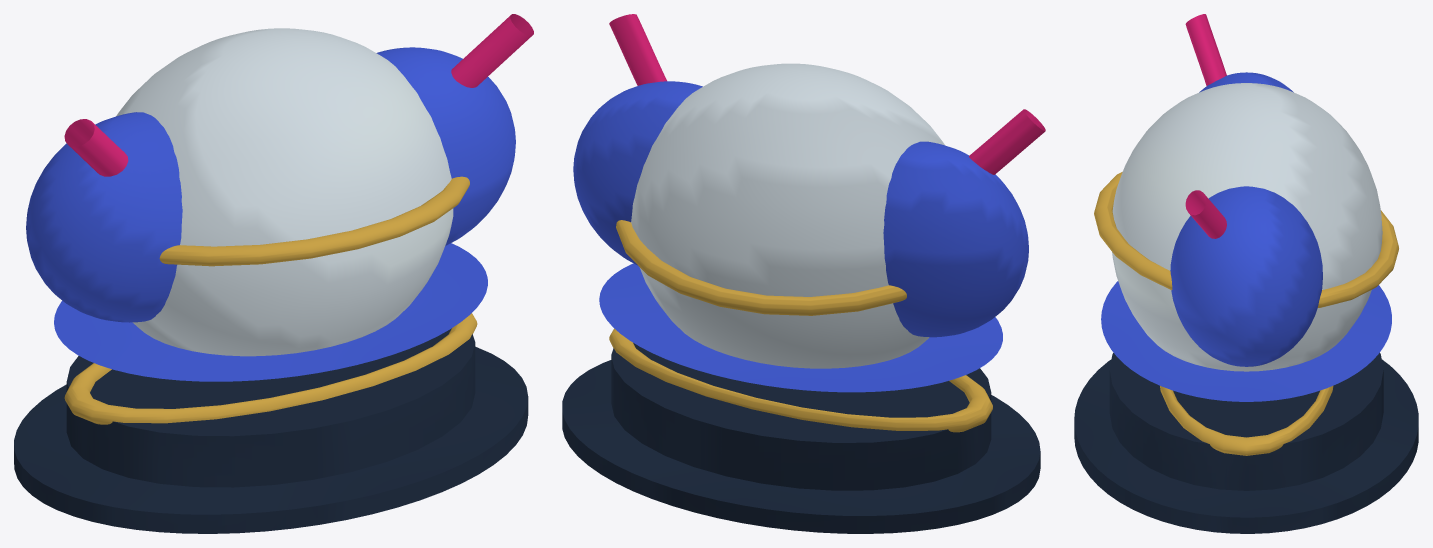
Rendered from 0181_人体图鉴_肺.glb.
The picture shows the model from 3 angles, left to right: view 1: azimuth 30°, elevation 25°; view 2: azimuth 150°, elevation 25°; view 3: azimuth 270°, elevation 25°; orthographic projection. The views are drawn at different scales.
Parts seen in each view (by area): view 1: card_0181; view 2: card_0181; view 3: card_0181.
Boxes of the visible parts, x1,y1,x2,y2 form: card_0181: (14,14,533,533); card_0181: (562,14,1045,533); card_0181: (1074,14,1418,533).
Bounding box in the file's own units: 1.25 × 1 × 0.9283.
